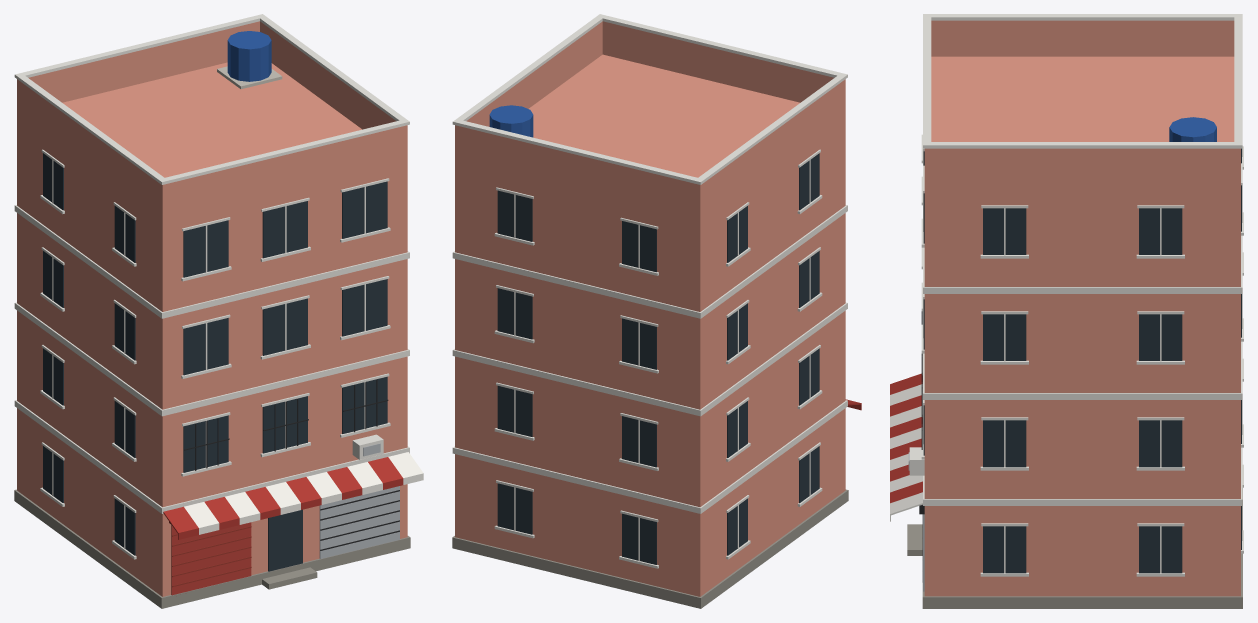
Rendered from BAY_F_Tower_D.glb.
The picture shows the model from 3 angles, left to right: view 1: azimuth 30°, elevation 25°; view 2: azimuth 150°, elevation 25°; view 3: azimuth 270°, elevation 25°; orthographic projection. The views are drawn at different scales.
Visible parts, largest first — view 1: BAY_F_Tower_D; view 2: BAY_F_Tower_D; view 3: BAY_F_Tower_D.
Part boxes in pixels (box(x1,y1,x2,y2)): BAY_F_Tower_D: box(14, 14, 423, 608); BAY_F_Tower_D: box(452, 14, 861, 608); BAY_F_Tower_D: box(890, 14, 1243, 608).
Size of the model in its own units: 7.24 by 11.8 by 8.17.
1 material, 1 textured.
